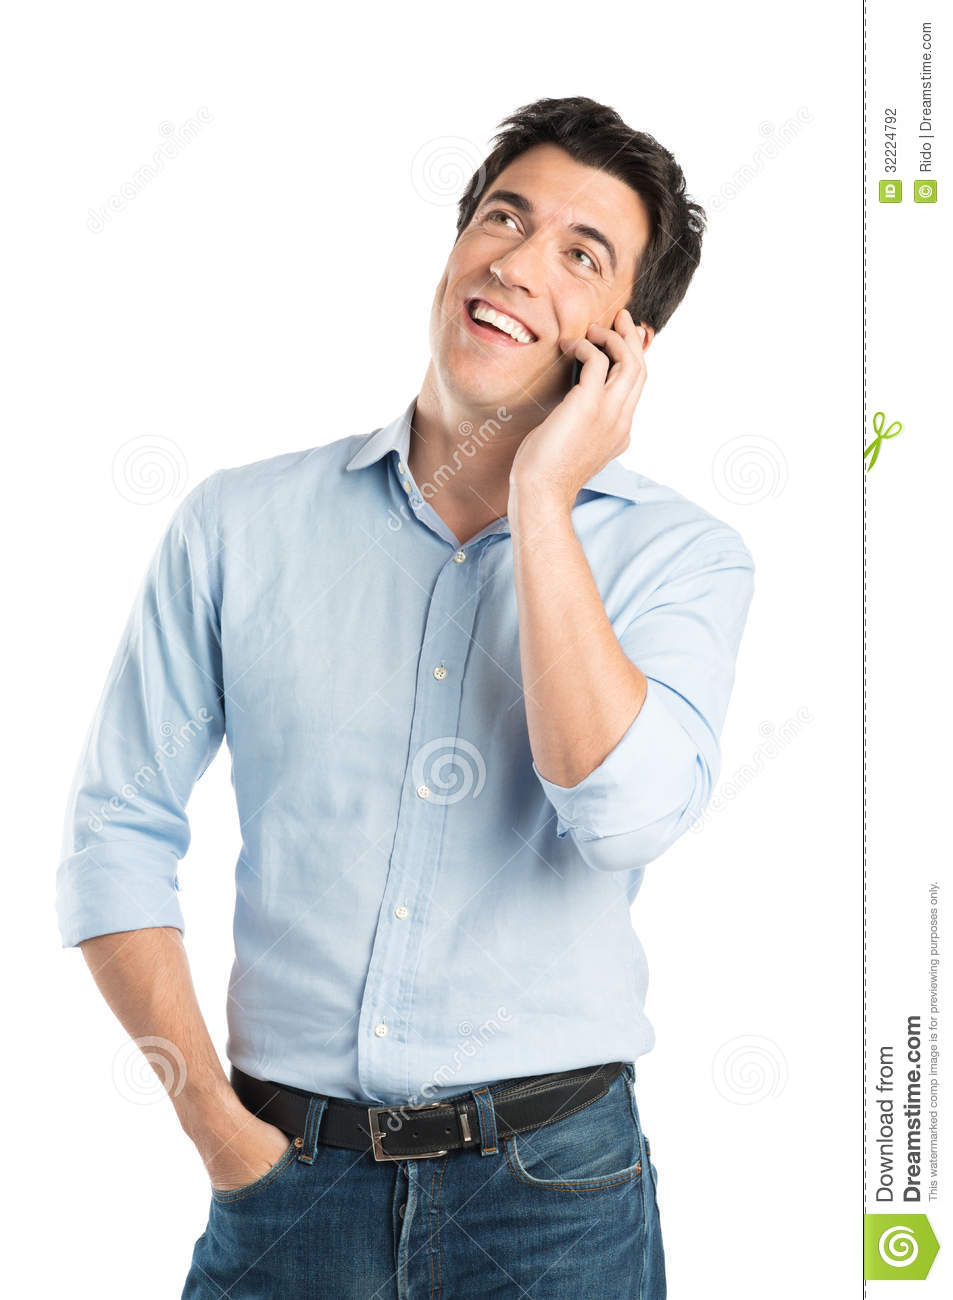phone: (548, 317, 644, 391)
talk: (428, 187, 657, 505)
